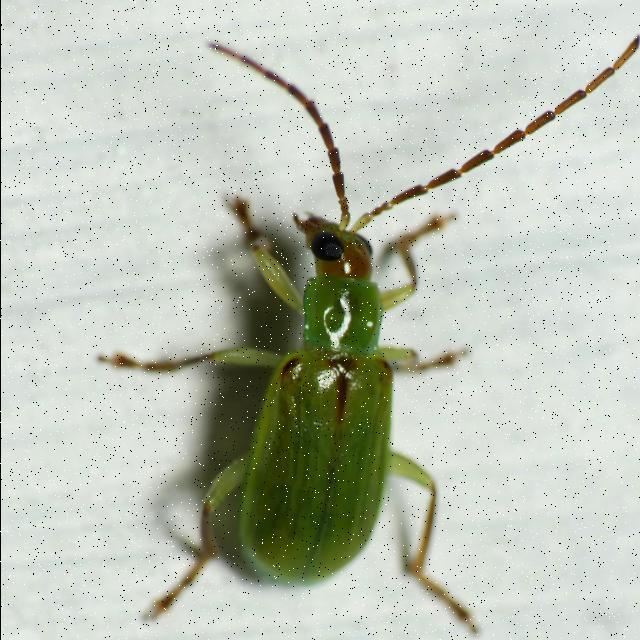trips: (103, 33, 640, 637)
